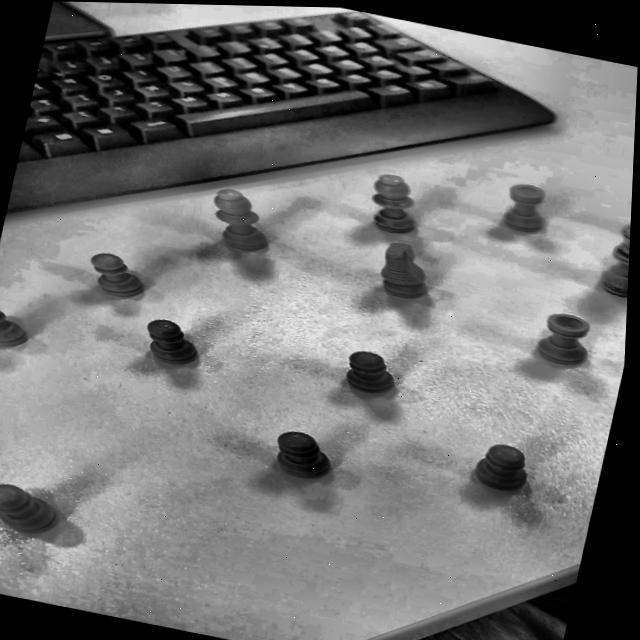white-bishop: (204, 185, 277, 253), (364, 170, 424, 235)
white-knight: (363, 236, 436, 302)
white-pawn: (0, 467, 72, 563), (269, 426, 338, 482), (470, 437, 534, 493), (138, 314, 204, 367), (85, 249, 149, 300), (342, 347, 398, 394), (0, 300, 35, 349)
white-queen: (594, 207, 631, 297)
white-rook: (534, 309, 594, 367), (500, 179, 552, 234)
